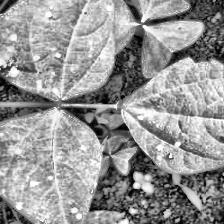Bean Rust: (119, 58, 224, 175), (0, 107, 103, 224), (0, 0, 115, 100)
